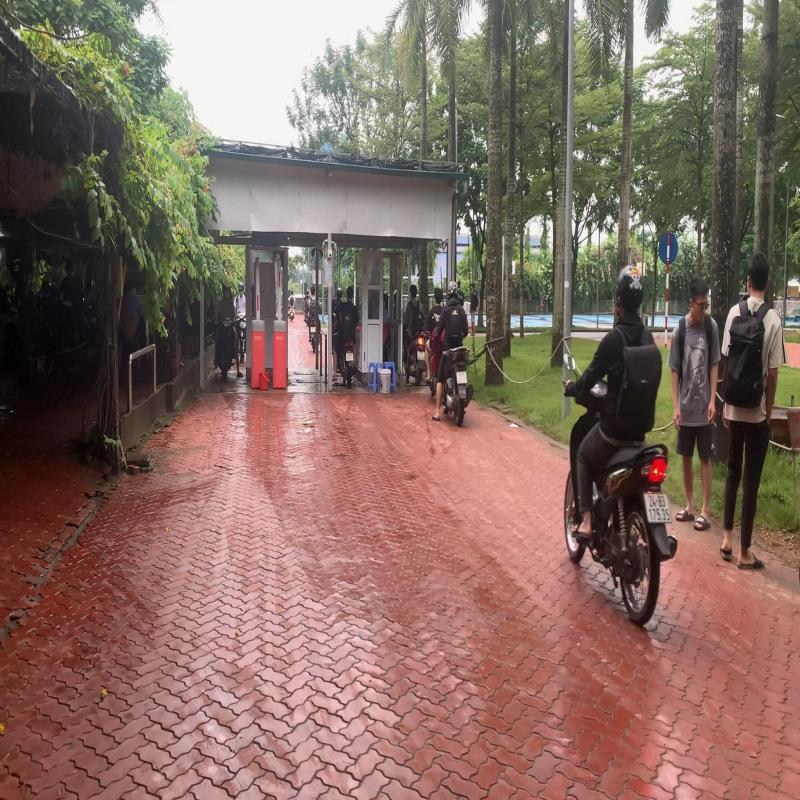nohelmet: (434, 286, 443, 306)
